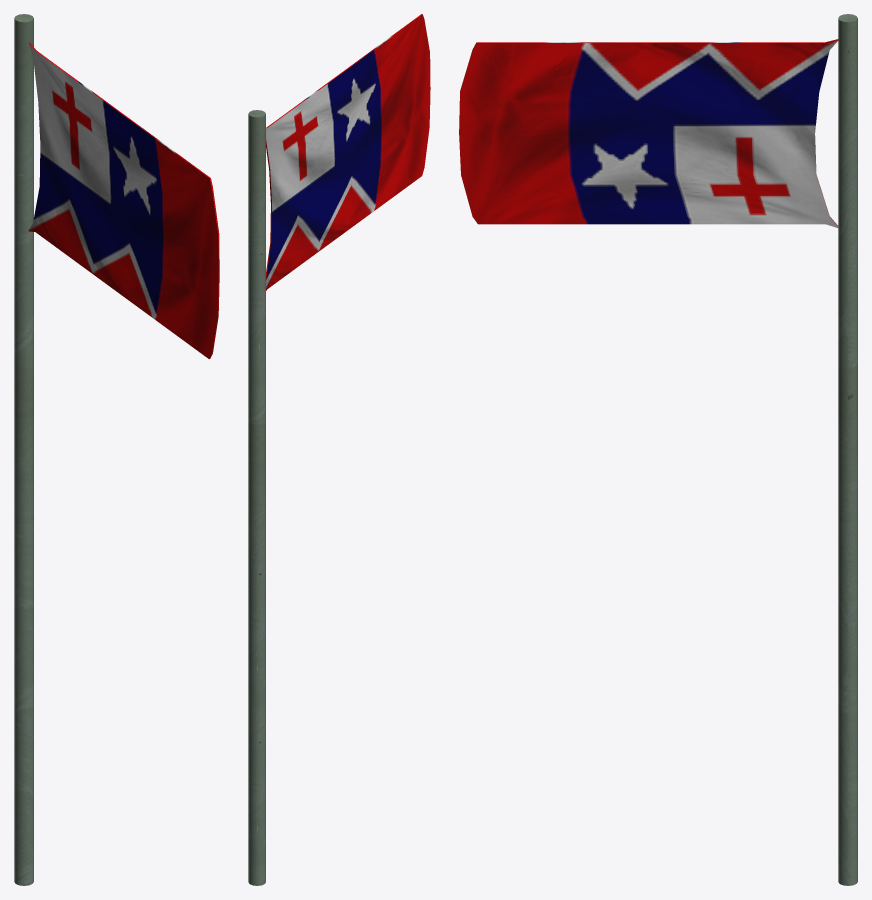
Rendered from national flag.FBX.
The picture shows the model from 3 angles, left to right: view 1: azimuth 30°, elevation 25°; view 2: azimuth 150°, elevation 25°; view 3: azimuth 270°, elevation 25°; orthographic projection. The views are drawn at different scales.
Visible parts, largest first — view 1: Cylinder001; view 2: Cylinder001; view 3: Cylinder001.
Boxes of the visible parts, bbox=[...] form: Cylinder001: bbox=[14, 14, 219, 885]; Cylinder001: bbox=[248, 14, 430, 885]; Cylinder001: bbox=[459, 14, 857, 885].
Bounding box in the file's own units: 0.66 × 32.02 × 13.4.
